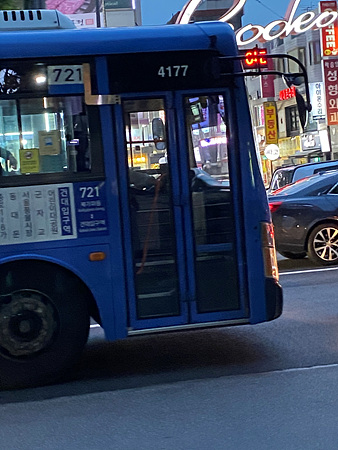entrance: (112, 89, 250, 322)
